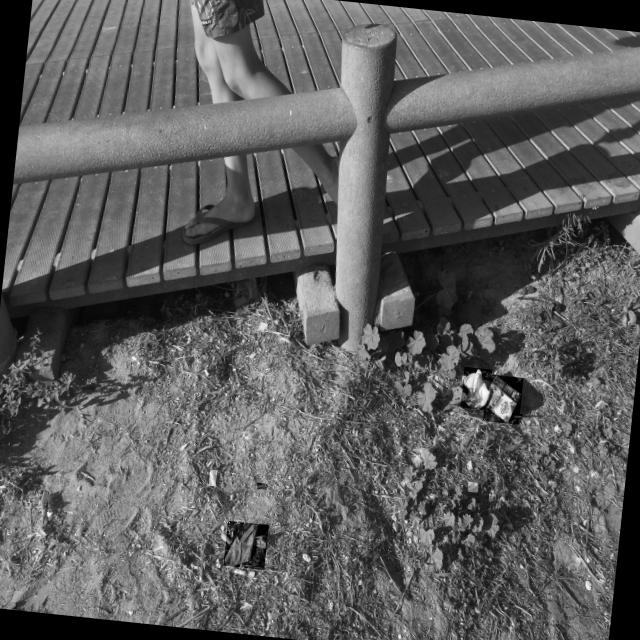Cigarette: (463, 368, 490, 409), (232, 568, 254, 576), (39, 490, 47, 509), (220, 533, 231, 545), (467, 482, 477, 491), (7, 602, 16, 609), (256, 483, 266, 488), (270, 427, 272, 437)
Food Carton: (484, 376, 520, 423)
Plastic film: (210, 470, 215, 486)
Straw: (511, 413, 521, 418)
Unlabeled litter: (223, 524, 266, 566)
